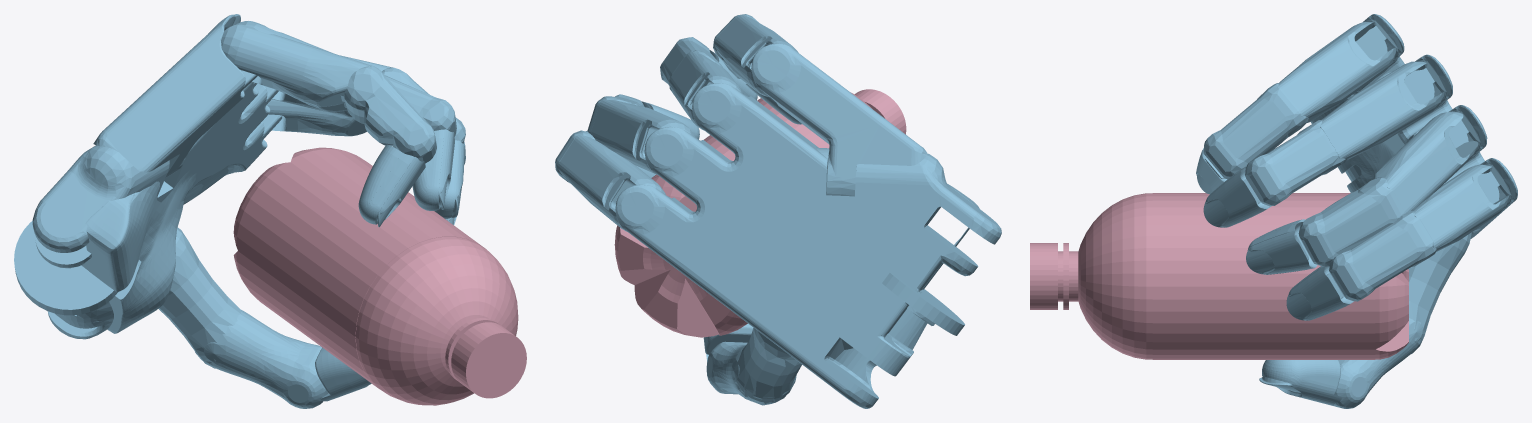
3 renders of one model, left to right at view 1: azimuth 30°, elevation 25°; view 2: azimuth 150°, elevation 25°; view 3: azimuth 270°, elevation 25°, orthographic. The views are drawn at different scales.
Parts seen in each view (by area): view 1: world; view 2: world; view 3: world.
Part boxes in pixels (x1,y1,x2,y2): world: (14, 14, 526, 408); world: (555, 14, 1001, 408); world: (1030, 14, 1517, 408).
Bounding box in the file's own units: 0.1704 × 0.1445 × 0.1758.
